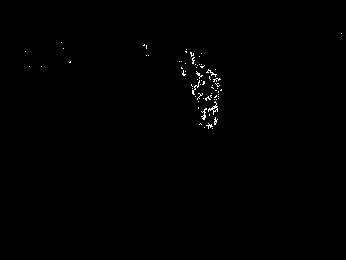person: (190, 57, 224, 130)
